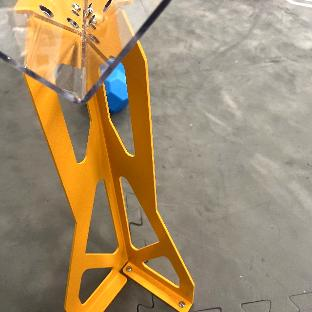V5_BLUE: (107, 64, 127, 111)
